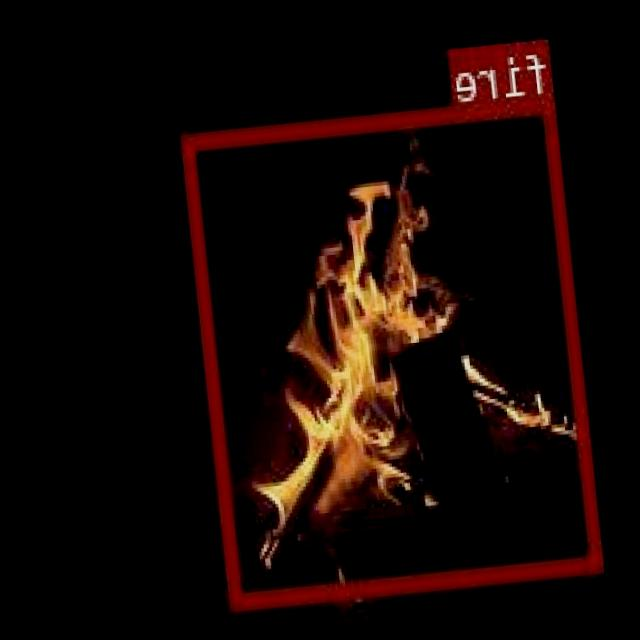fire: (183, 93, 604, 604)
